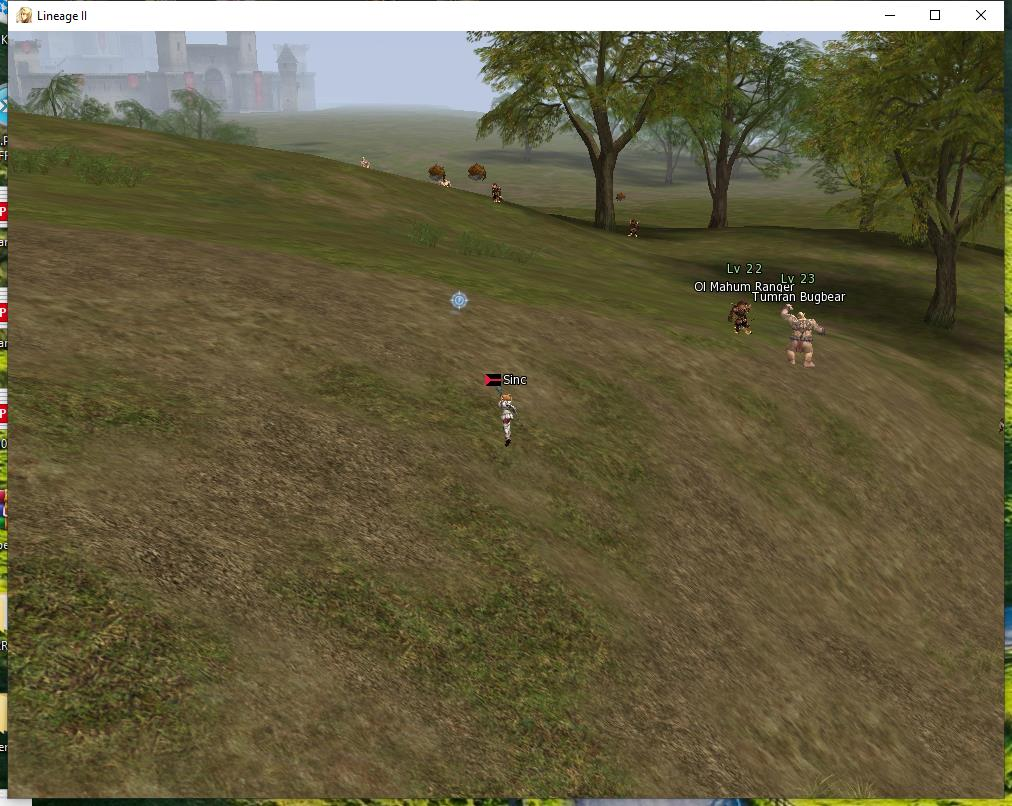monster: (687, 248, 778, 334), (782, 282, 848, 371), (423, 159, 450, 184), (485, 180, 503, 209), (624, 218, 644, 242), (468, 163, 484, 182), (362, 155, 375, 170), (617, 185, 630, 200)
